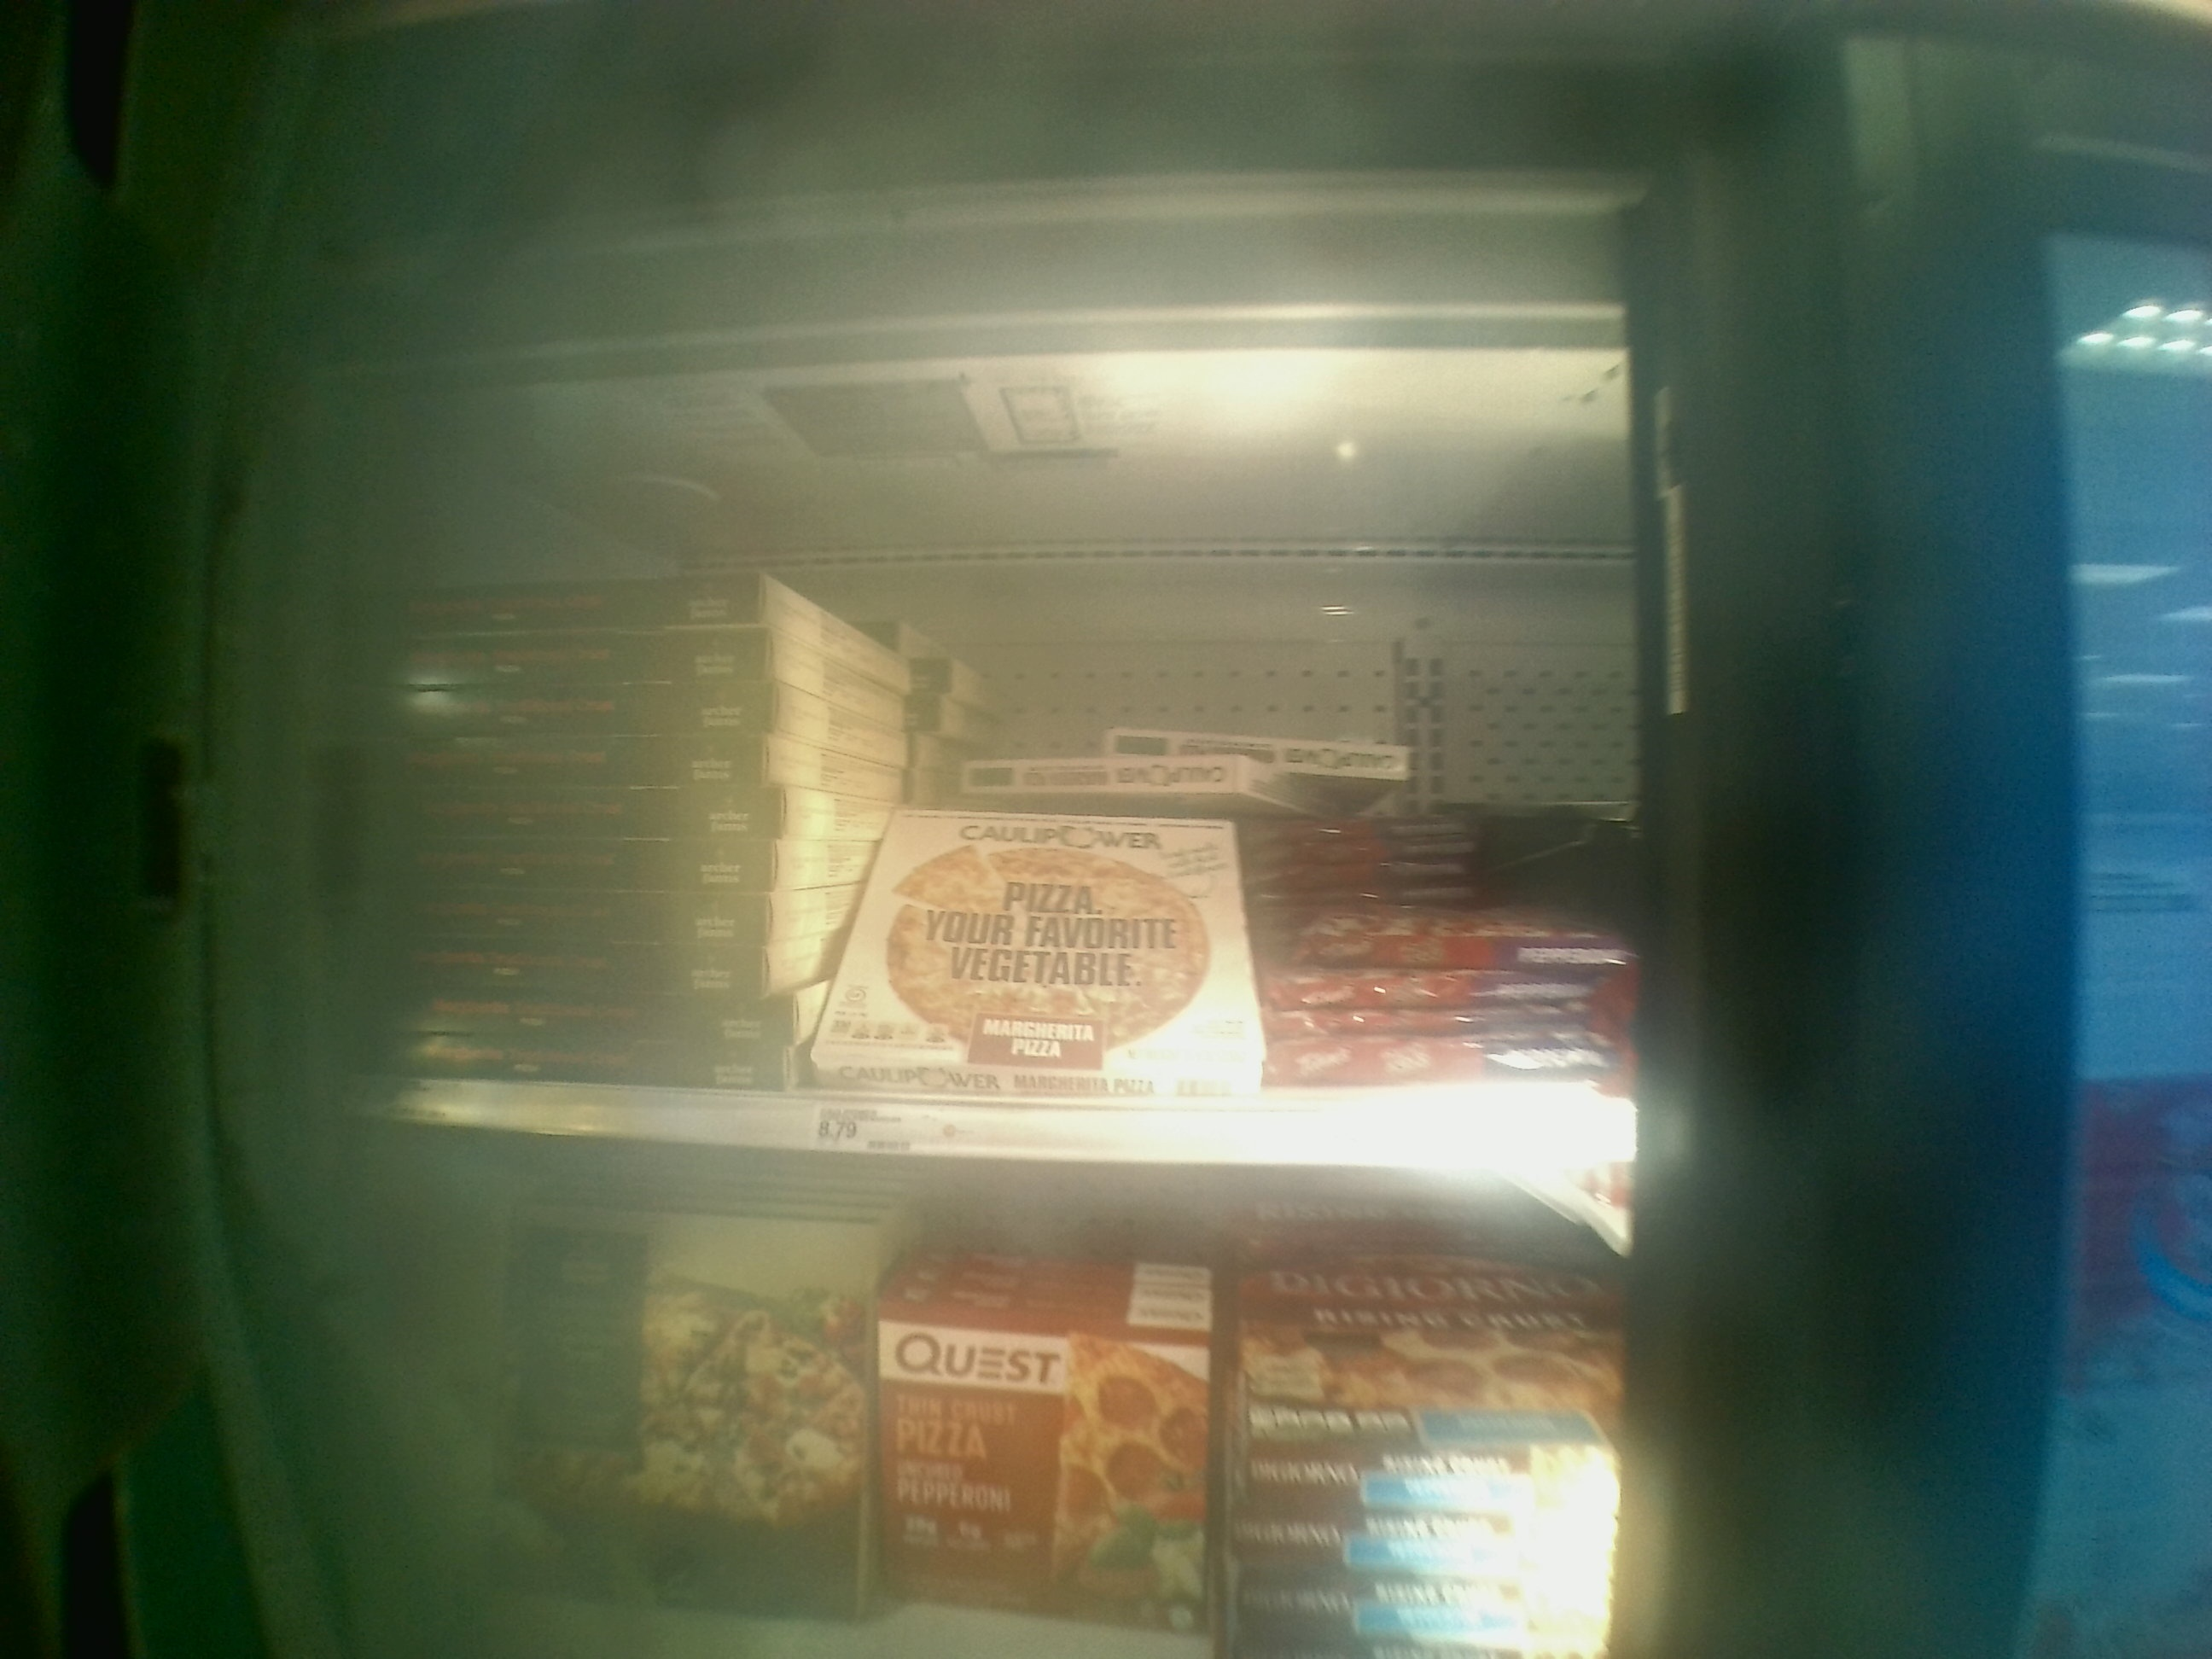shelf: (298, 186, 1674, 1190)
